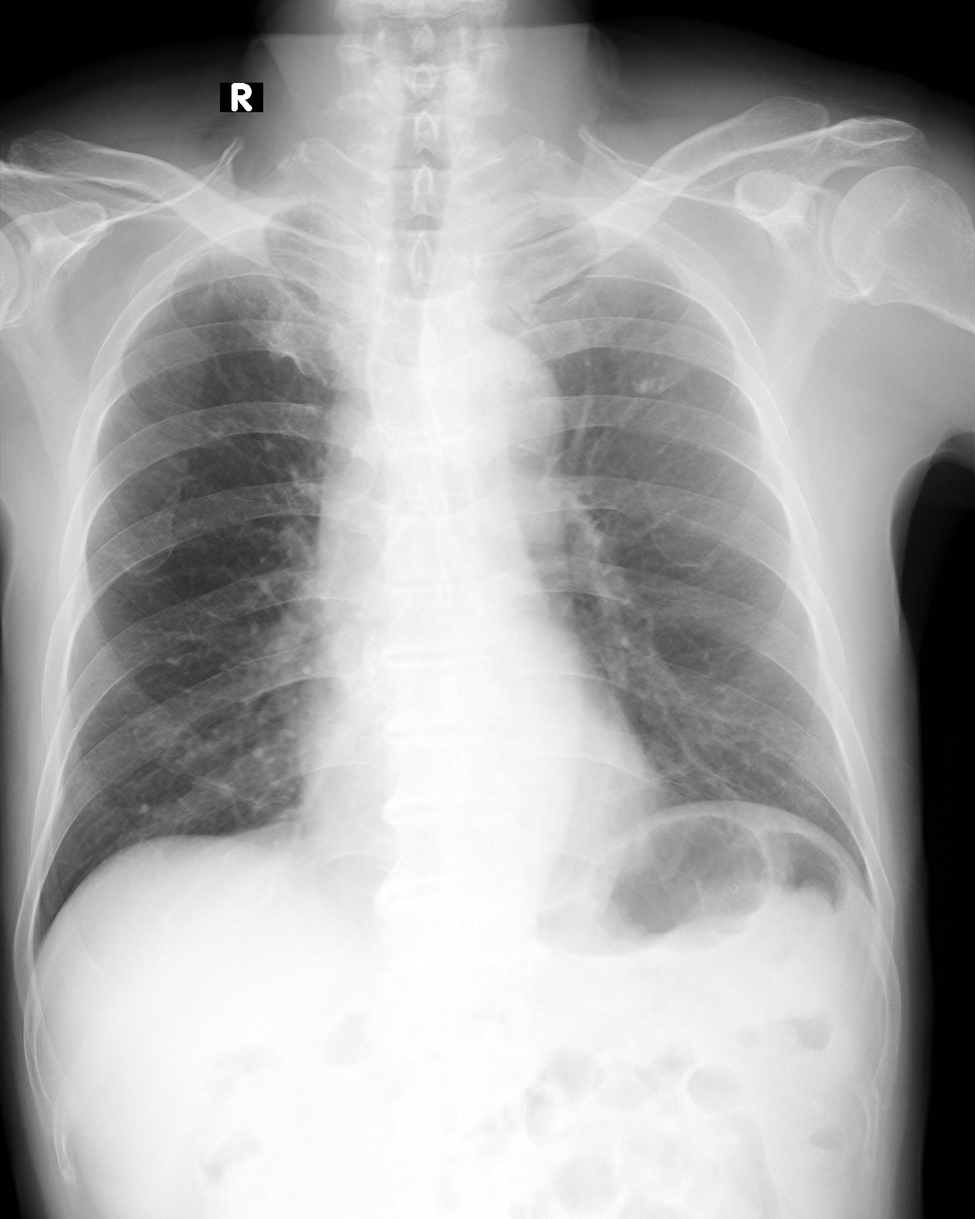Aortic enlargement: (416, 324, 559, 452)
Pulmonary fibrosis: (625, 300, 671, 394)
